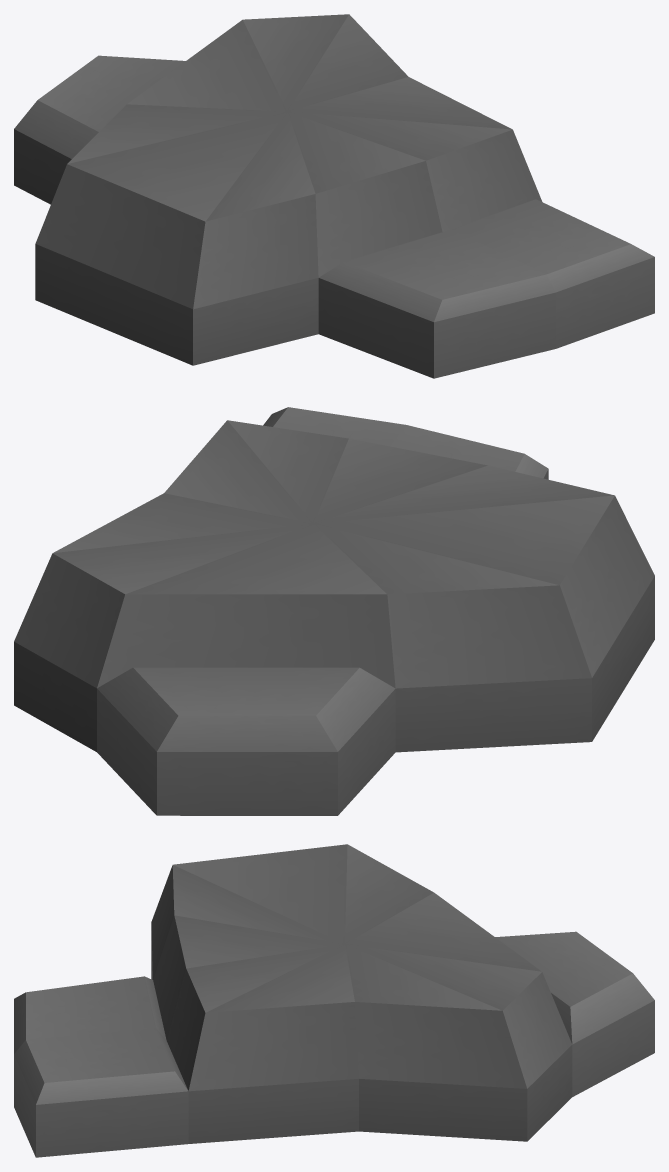
The model's file is pack02_rocks_15.fbx.
The picture shows the model from 3 angles, top to bottom: view 1: azimuth 30°, elevation 25°; view 2: azimuth 150°, elevation 25°; view 3: azimuth 270°, elevation 25°; orthographic projection. The views are drawn at different scales.
Visible parts, largest first — view 1: Rock Type4 03 mesh; view 2: Rock Type4 03 mesh; view 3: Rock Type4 03 mesh.
Boxes of the visible parts, x1,y1,x2,y2 form: Rock Type4 03 mesh: (14, 14, 654, 378); Rock Type4 03 mesh: (14, 407, 654, 815); Rock Type4 03 mesh: (14, 844, 654, 1157).
Size of the model in its own units: 152 by 41.76 by 200.
Materials: 1 (1 with a texture image).
